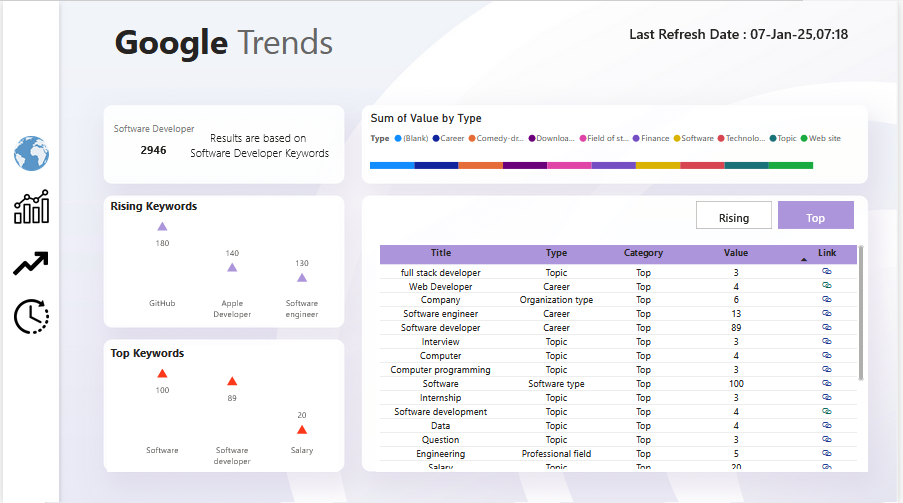

What the dashboard file says about the page in this screenshot:
{"tool":"powerbi","page":{"name":"Rising and top keywords","canvas":[1280,720],"ordinal":3},"visuals":[{"type":"card","title":"Software Developer","fields":{"Values":["Date_API.Imp_Value"]},"box":[150.2,172.9,131.8,66.6],"z":0},{"type":"card","title":"Software Developer","fields":{"Values":["Related_keyword_Main (2).impo_shrt_title"]},"box":[256.5,161.6,223.9,90.7],"z":1000},{"type":"lineChart","title":"Rising Keywords","fields":{"Category":["Rising_Keywords.title"],"Y":["Sum(Rising_Keywords.Value)"]},"box":[149.5,282.2,330.9,181.4],"z":2000},{"type":"lineChart","title":"Top Keywords","fields":{"Category":["Top_Keywords.Title"],"Y":["Sum(Top_Keywords.value)"]},"box":[149.5,492.2,330.9,181.4],"z":3000},{"type":"advancedSlicerVisual","fields":{"Values":["Top_Rising.Category"]},"box":[987.7,282.2,236.8,50.4],"z":4000},{"type":"tableEx","fields":{"Values":["Top_Rising.Title","Top_Rising.Type","Top_Rising.Category","Sum(Top_Rising.Value)","Top_Rising.Link"]},"box":[534.2,344.4,703.8,329.2],"z":5000},{"type":"barChart","fields":{"Y":["Sum(Top_Keywords.Value)"],"Series":["Rising_Keywords.Type"]},"box":[520.7,157.9,703.8,102.5],"z":6000},{"type":"group","id":"g1","title":"Group 3","box":[154.9,19.1,1116.1,89.3],"z":7000},{"type":"textbox","box":[154.9,19.1,372.1,89.3],"z":7000,"group":"g1"},{"type":"image","box":[11.2,186.5,59.2,64.7],"z":7000,"group":"g2"},{"type":"card","fields":{"Values":["Min(Refresh_Date.Refresh_date)"]},"box":[837.9,28.3,433.1,44.6],"z":8000,"group":"g1"},{"type":"group","id":"g2","title":"Group 5","box":[9.3,186.5,61,297.8],"z":8000},{"type":"image","box":[11.2,262.3,59.2,64.7],"z":8000,"group":"g2"},{"type":"image","box":[9.3,343.7,59.2,64.7],"z":9000,"group":"g2"},{"type":"image","box":[11.2,419.6,59.2,64.7],"z":10000,"group":"g2"}]}

Visuals, with their boxes on the page's 1280x720 design canvas (x1, y1, x2, y2). These are canvas units, not pixel positions in the 903x503 screenshot, which may show the page scaled, cropped or inside an application window:
"Software Developer" card: 150, 173, 282, 240
"Software Developer" card: 256, 162, 480, 252
"Rising Keywords" lineChart: 150, 282, 480, 464
"Top Keywords" lineChart: 150, 492, 480, 674
advancedSlicerVisual - Top_Rising.Category: 988, 282, 1224, 333
tableEx - Top_Rising.Title x Top_Rising.Type: 534, 344, 1238, 674
barChart - Sum(Top_Keywords.Value) x Rising_Keywords.Type: 521, 158, 1224, 260
"Group 3" group: 155, 19, 1271, 108
textbox: 155, 19, 527, 108
image: 11, 186, 70, 251
card - Min(Refresh_Date.Refresh_date): 838, 28, 1271, 73
"Group 5" group: 9, 186, 70, 484
image: 11, 262, 70, 327
image: 9, 344, 68, 408
image: 11, 420, 70, 484
